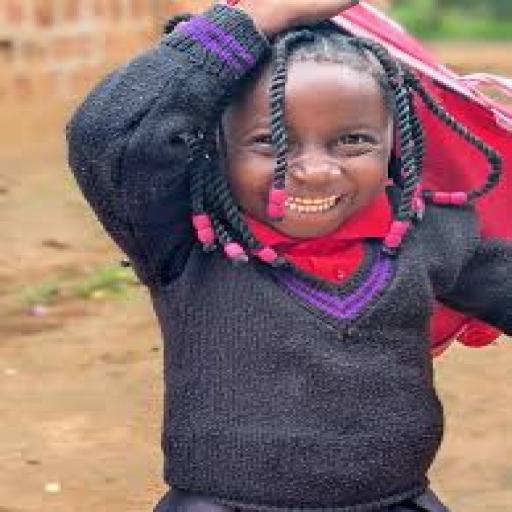bus_stop: (69, 0, 511, 511)
